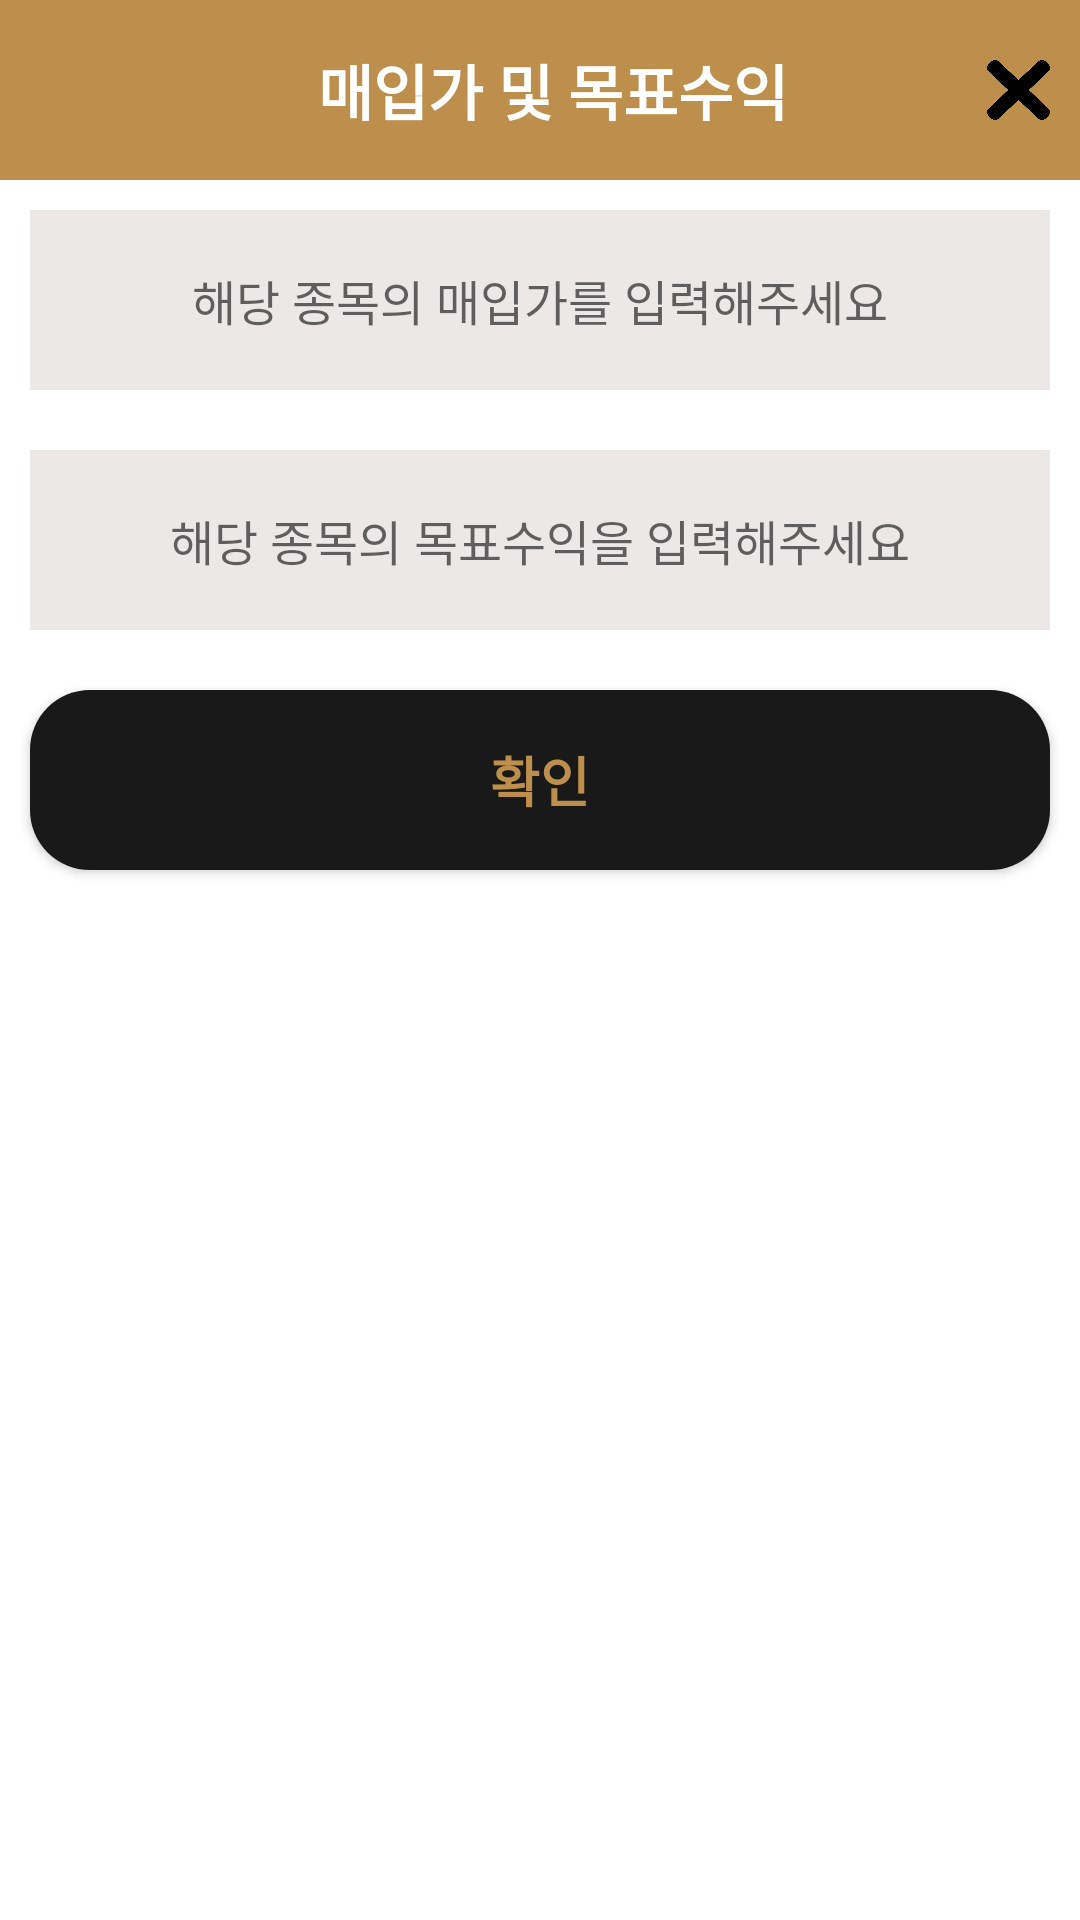

Icon click points for this 1080 × 1920 phone screenshot, format [x,y]:
close: [1018,90]
